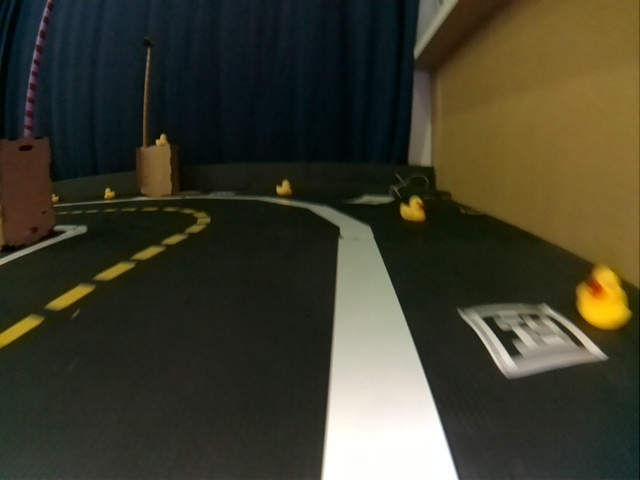Duckie: (577, 267, 629, 328), (400, 198, 423, 221), (277, 179, 292, 196), (156, 134, 167, 146), (104, 188, 114, 198), (50, 194, 57, 201)
QR code: (458, 302, 606, 378)
